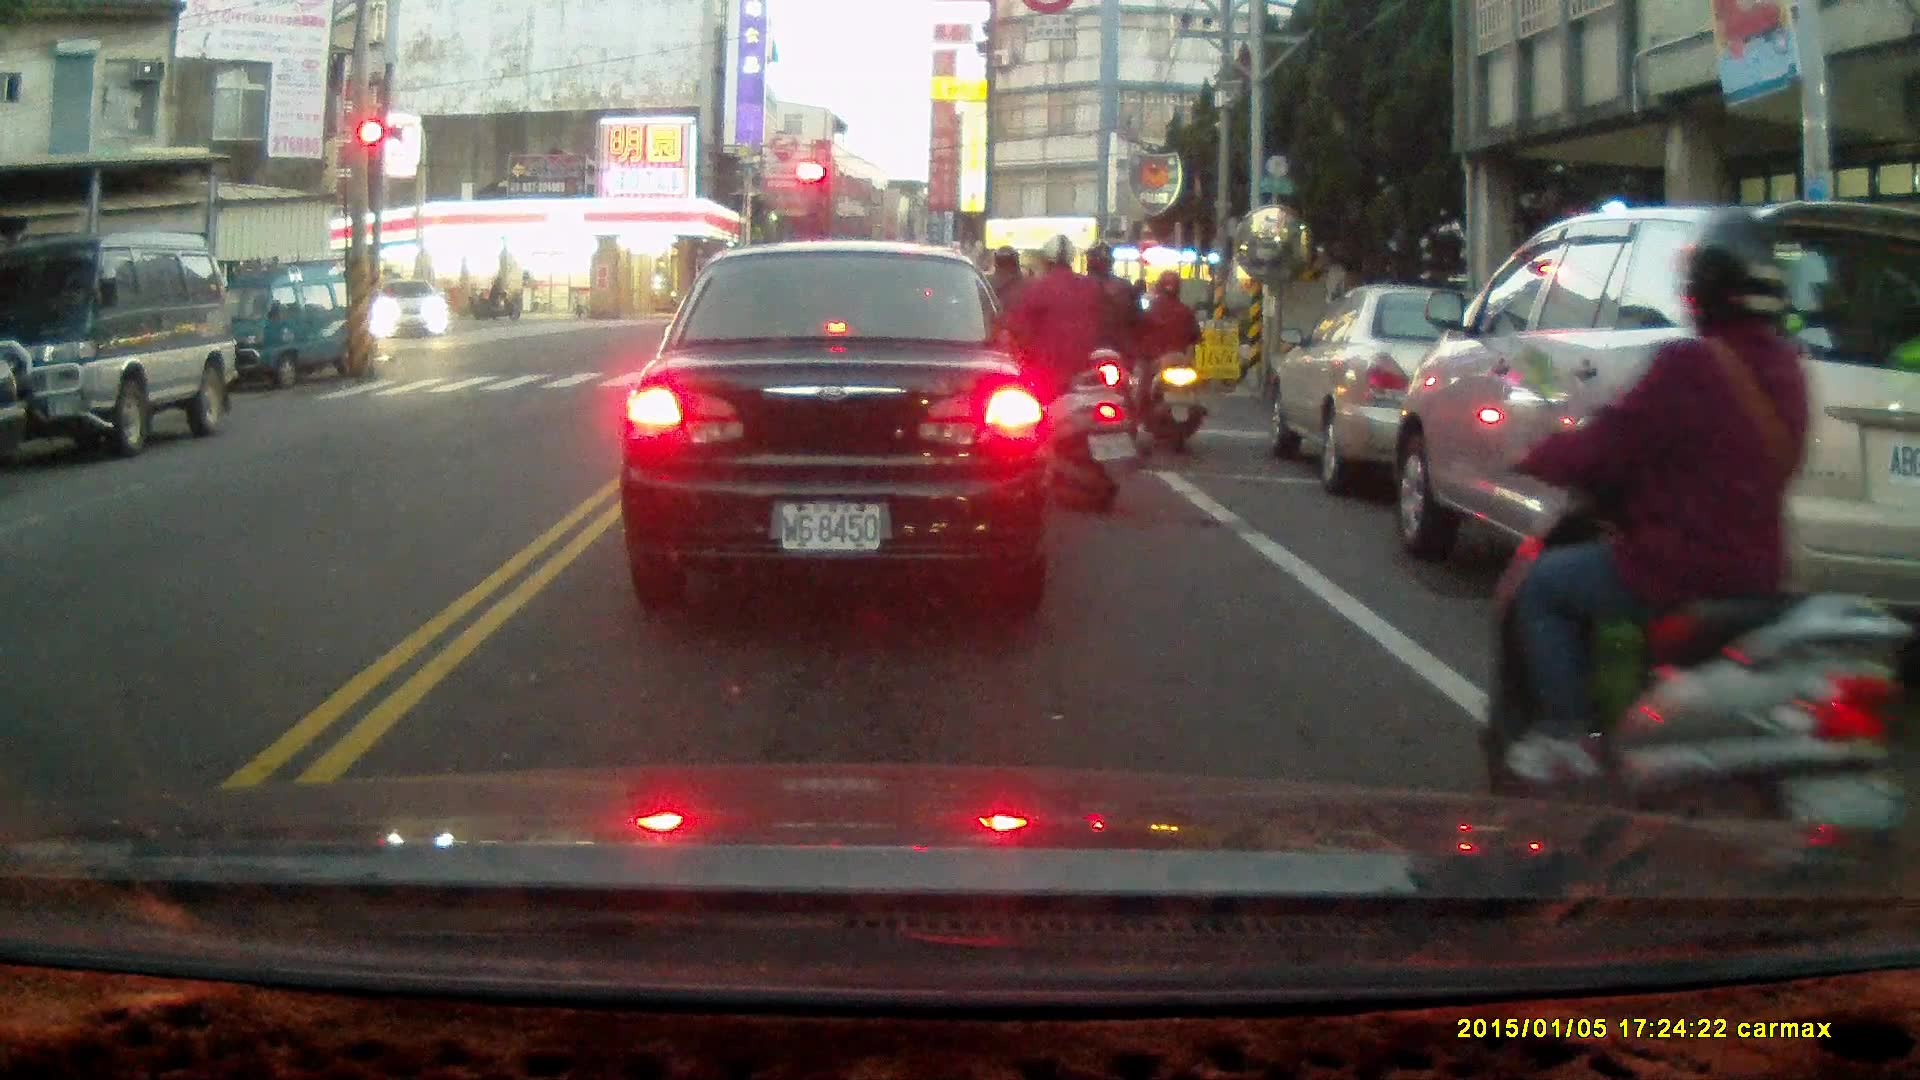rider: (1482, 209, 1899, 906), (989, 232, 1139, 515), (1048, 242, 1141, 468), (960, 239, 1057, 434), (1134, 269, 1204, 450), (473, 279, 519, 322)
vehicle: (1380, 197, 1920, 690), (617, 243, 1061, 606), (1266, 286, 1566, 500), (1, 234, 239, 458), (194, 255, 381, 393), (372, 277, 451, 343)
